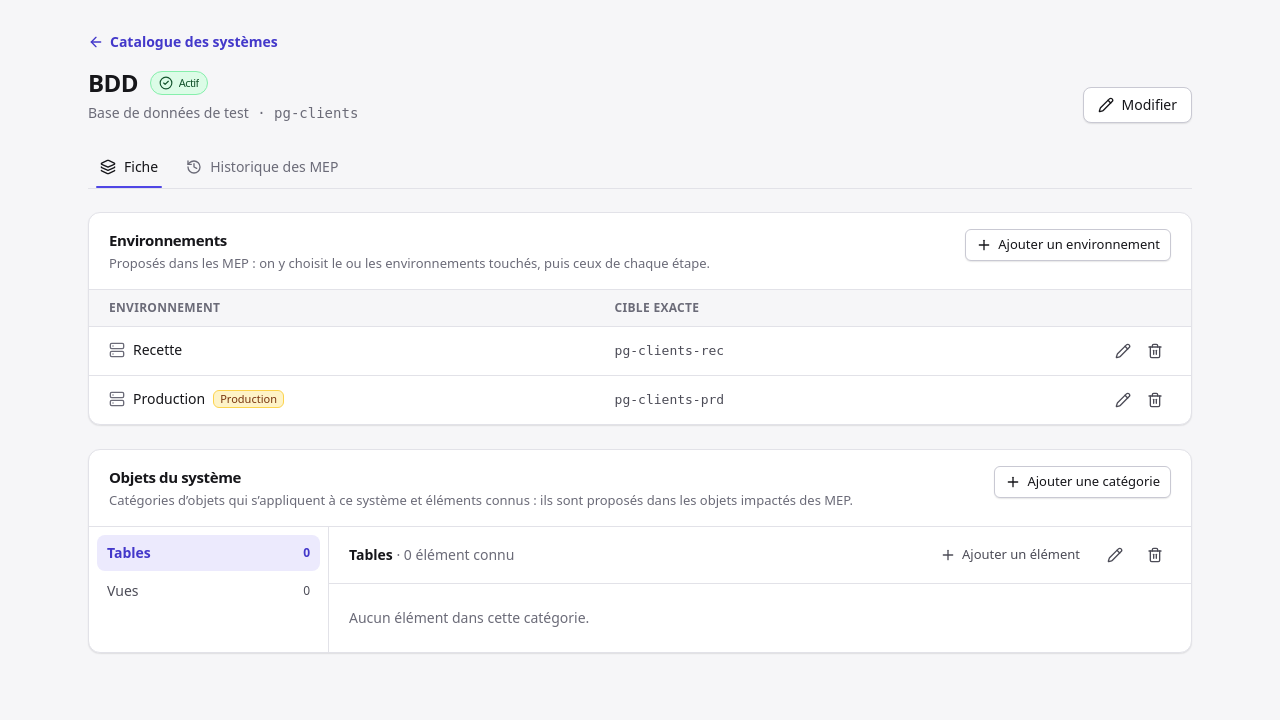
Test case: Fiche d’un système : historique des MEP (#59) › aucune MEP : état vide ; sans onglet demandé, la fiche s’affiche
This screenshot has width=1280, height=720.
Expected: the tab "Fiche" is shown, left=88, top=147, right=170, bottom=187
Click the tab "Historique des MEP" at (262, 167), box left=174, top=147, right=350, bottom=187
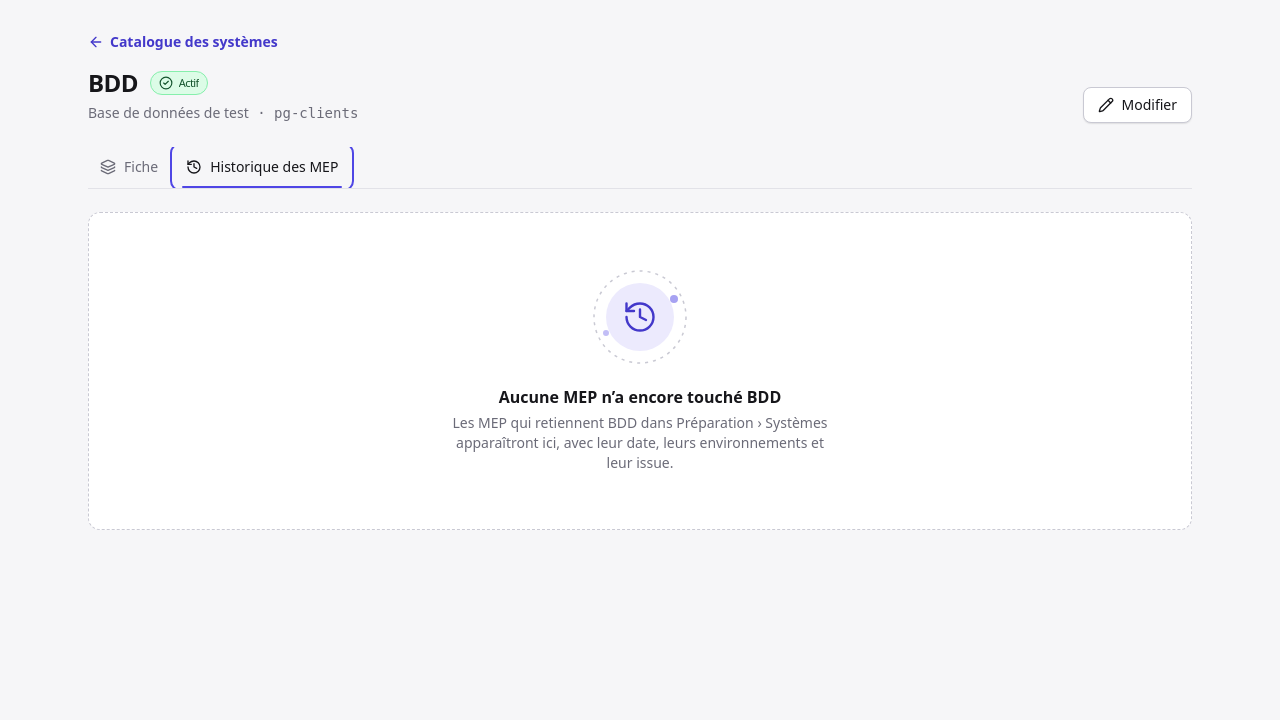
Expected: the heading "Aucune MEP n’a encore touché BDD" is shown, left=499, top=385, right=781, bottom=409
